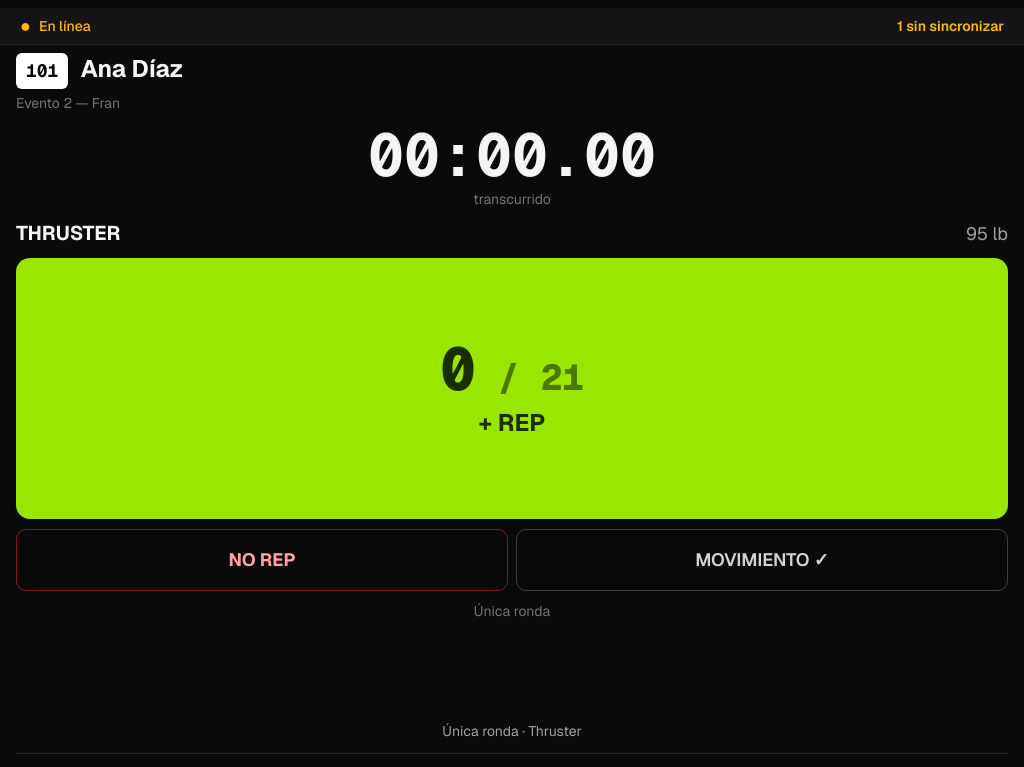
Test: MOVIMIENTO ✓ › pide la cantidad en vez de saltar al objetivo en silencio
Check: the heading "Ana Díaz" is shown, box left=80, top=53, right=183, bottom=84
Click the button "0 / 21 + REP": (76, 389) left=16, top=258, right=1008, bottom=519
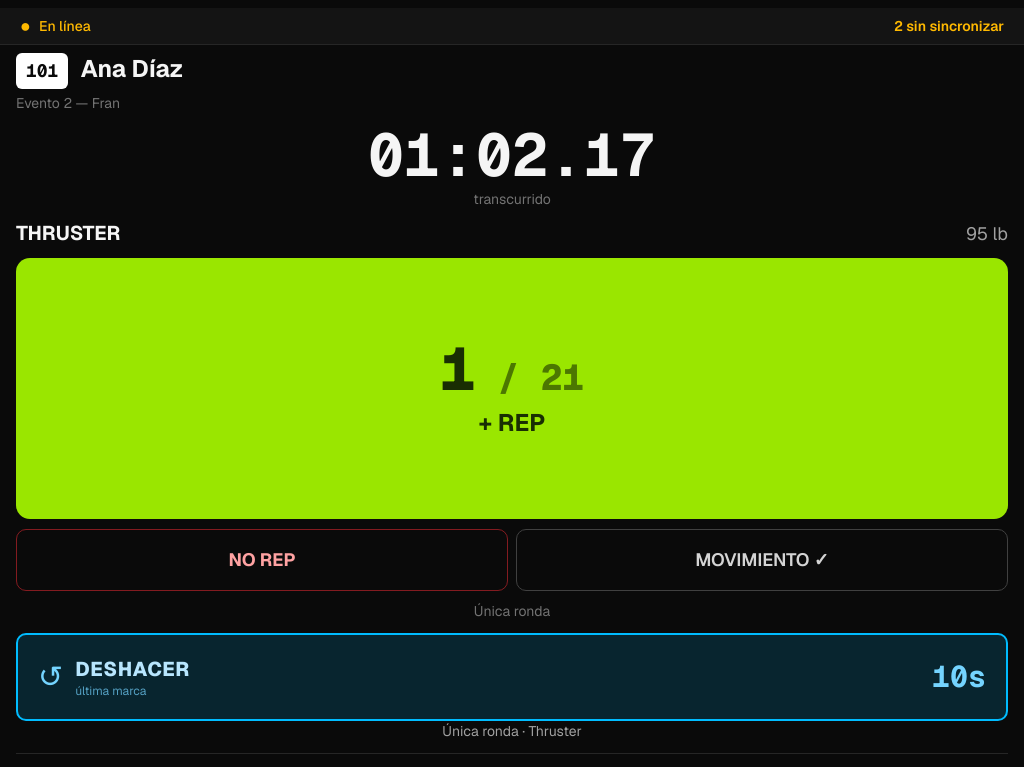
Click the button "MOVIMIENTO ✓": (762, 560) left=516, top=529, right=1008, bottom=591
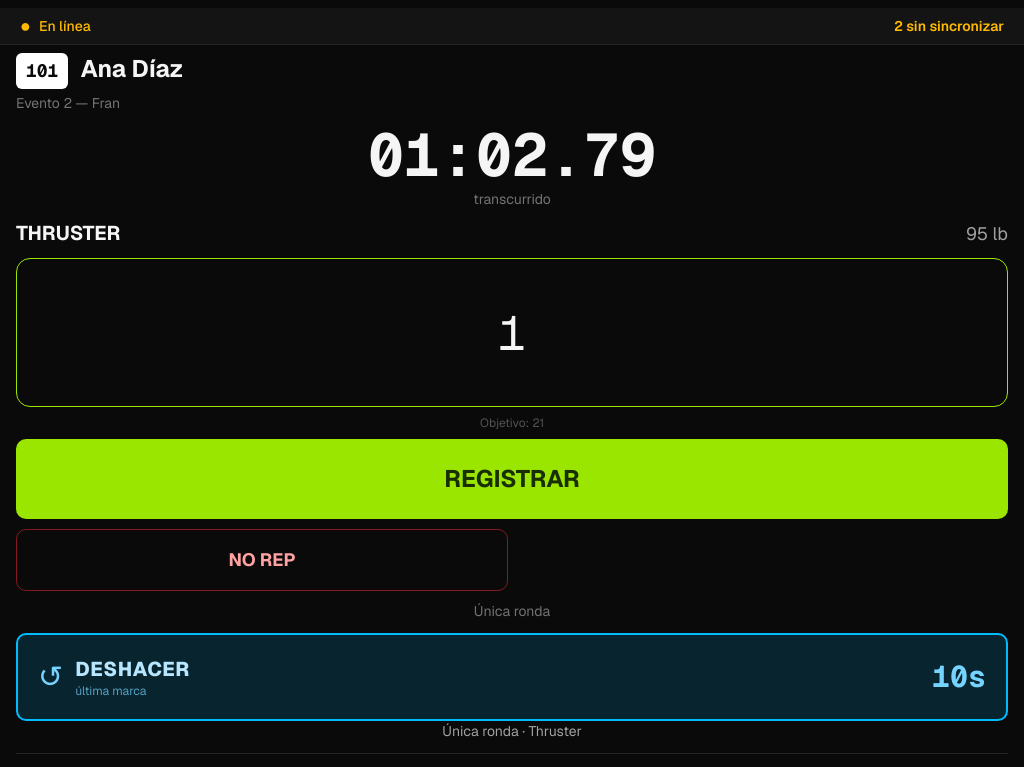
Check: the button "REGISTRAR" is shown, box left=16, top=439, right=1008, bottom=519
